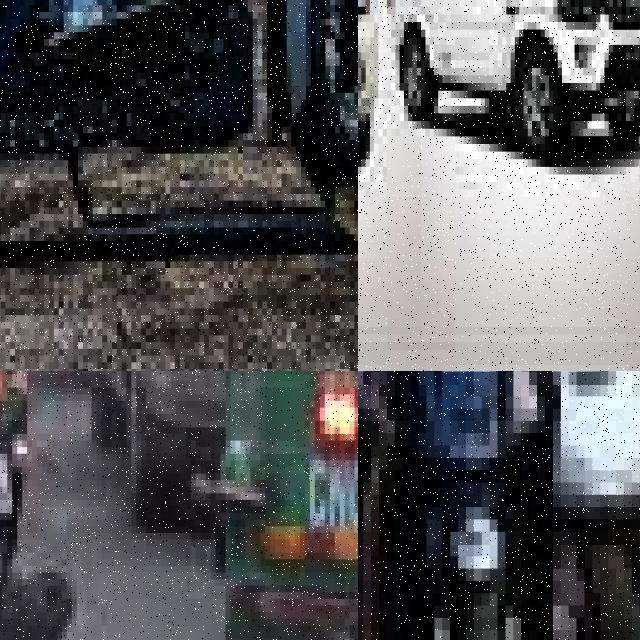bike: (0, 0, 358, 268), (358, 371, 592, 640), (0, 371, 101, 640)
car: (382, 0, 640, 266)
